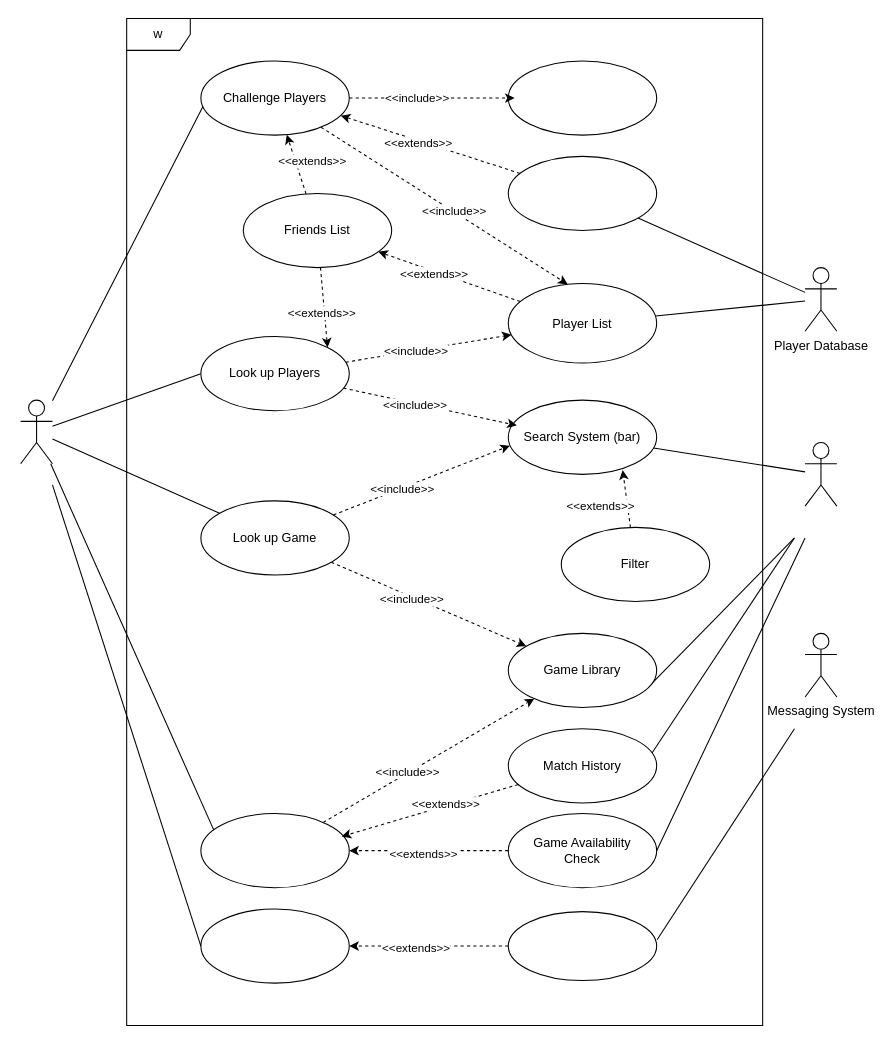
The diagram is 893 pixels wide and 1044 high, and some of its shapes have lost their labels. The shapes that lost their labels are listed below. From the top down, each one's centre as x and y in pixels, then its label:
At pixel 582 97: "Matchmaking Logic".
At pixel 582 193: "Leaderboard".
At pixel 36 431: "Player".
At pixel 820 473: "Game Server".
At pixel 274 850: "Join a game from the Library".
At pixel 274 945: "In-Game Chatting".
At pixel 582 945: "Online Game Session".
